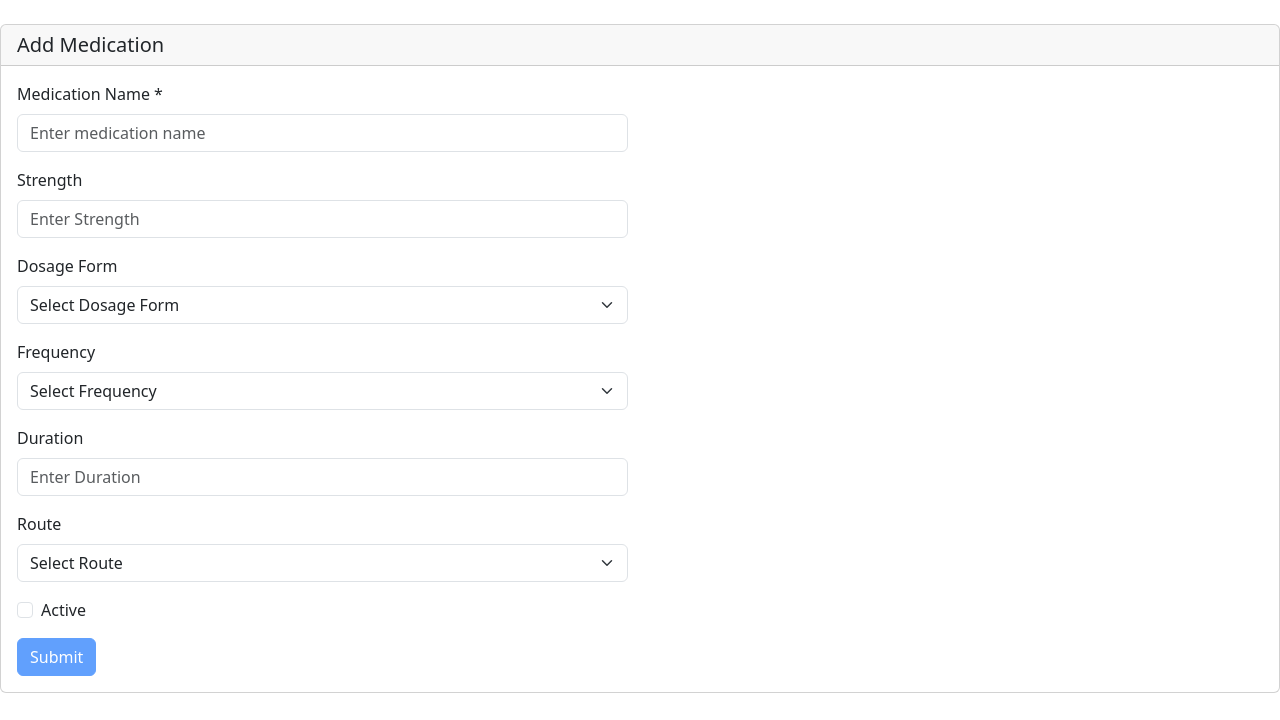
Scenario: Medication Form › should throw required validation and submit is blocked
Type "dolo" into the field labelled "Medication Name *".
click(322, 133); type("dolo")  # box [17,114,628,152]
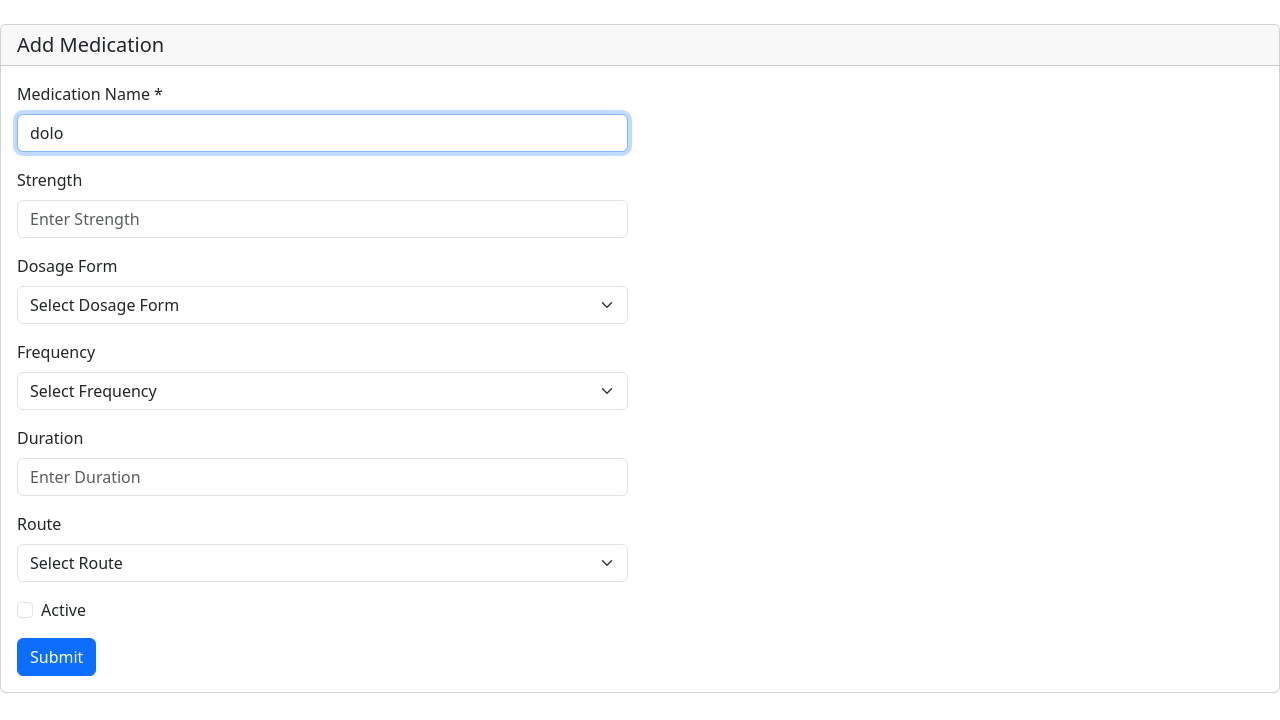
Click the button "Submit".
click(57, 657)  # box [17,638,96,676]
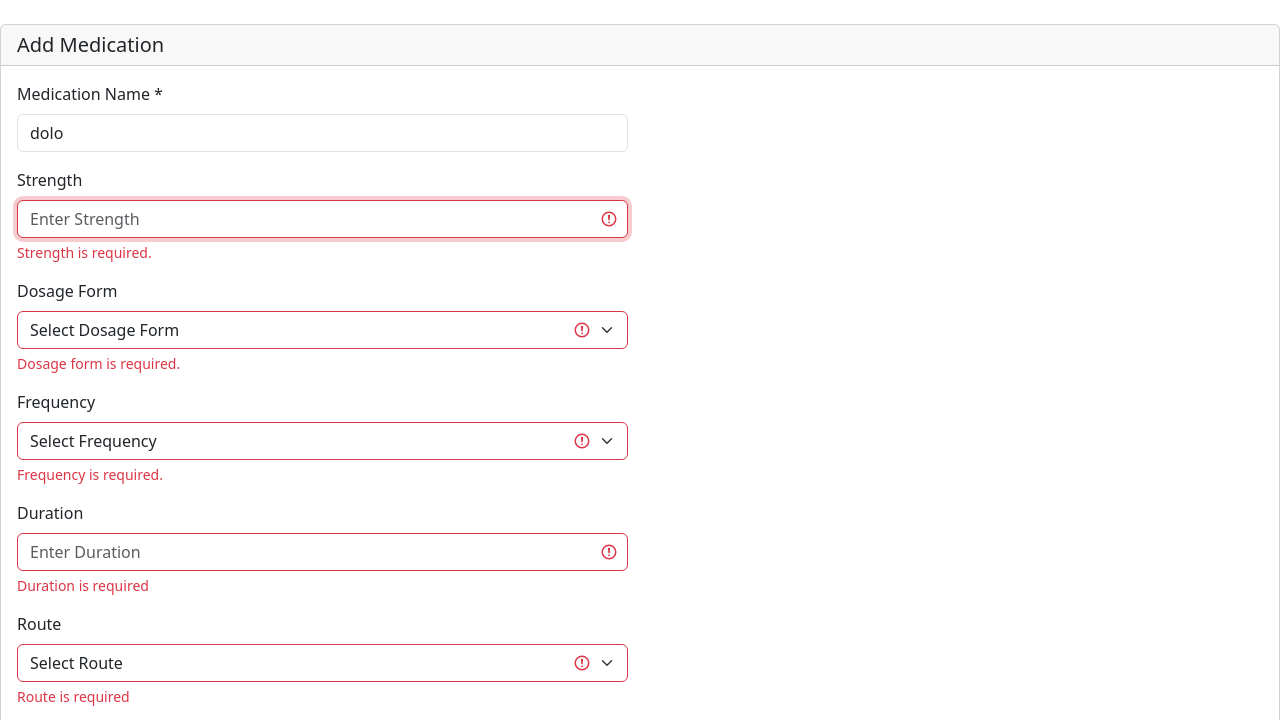
Expected: the text "Frequency is required." is shown, [17,465,163,484]
Expected: the text "Dosage form is required." is shown, [17,354,180,373]
Expected: the text "Route is required" is shown, [17,687,130,706]
Type "10mg" into the field labelled "Strength".
click(322, 219); type("10mg")  # box [17,200,628,238]
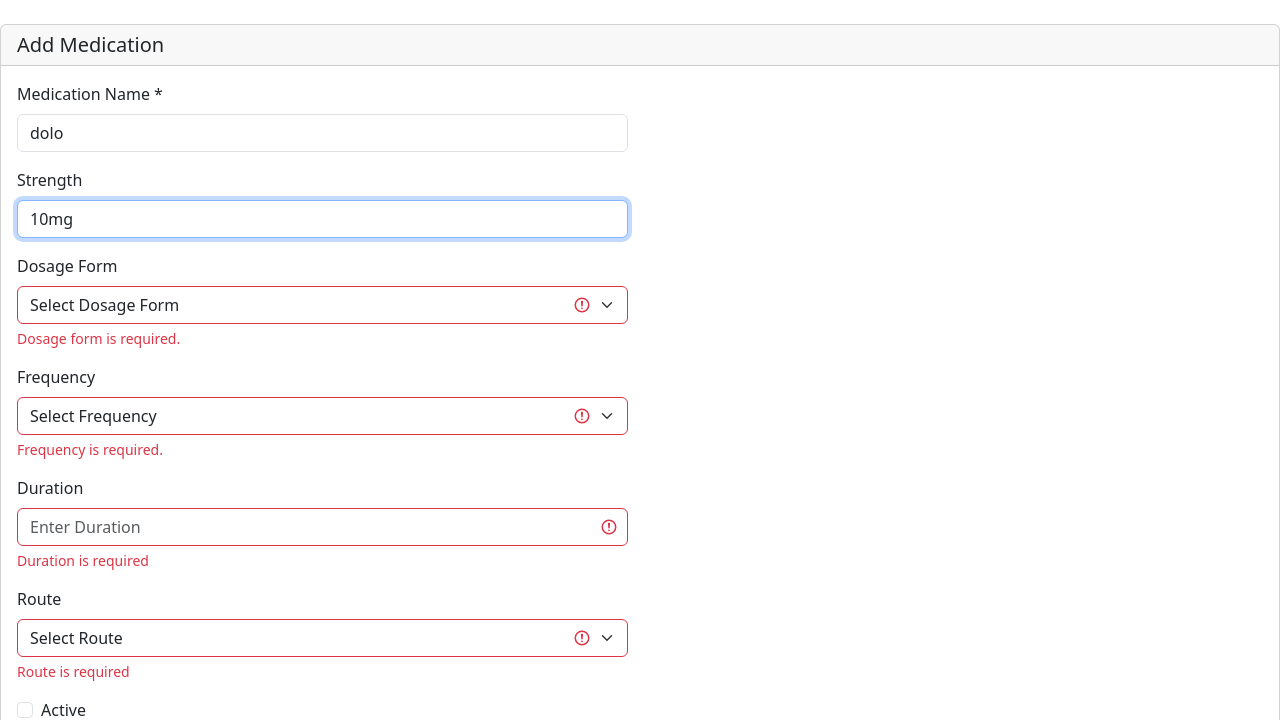
Clear the field labelled "Medication Name *" at (322, 133), box [17,114,628,152]
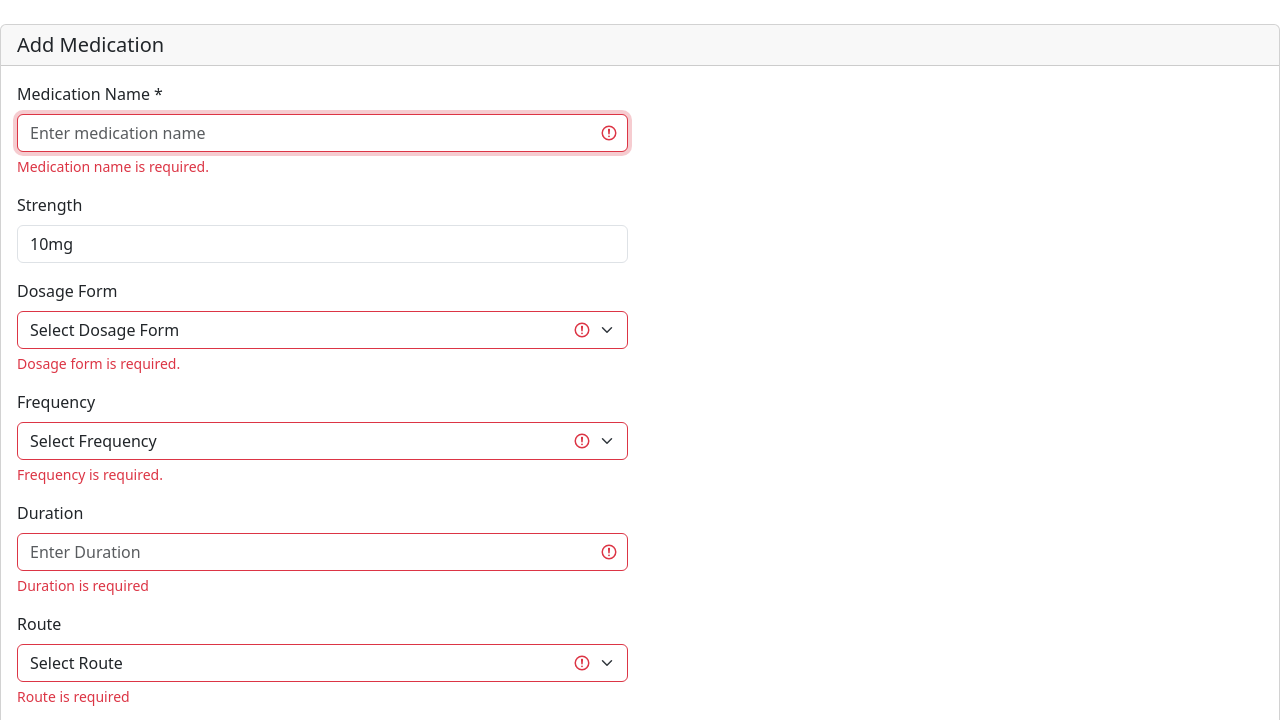
Expected: the text "Strength is required" is not shown
Expected: the text "Medication name is required." is shown, [17,157,209,176]
